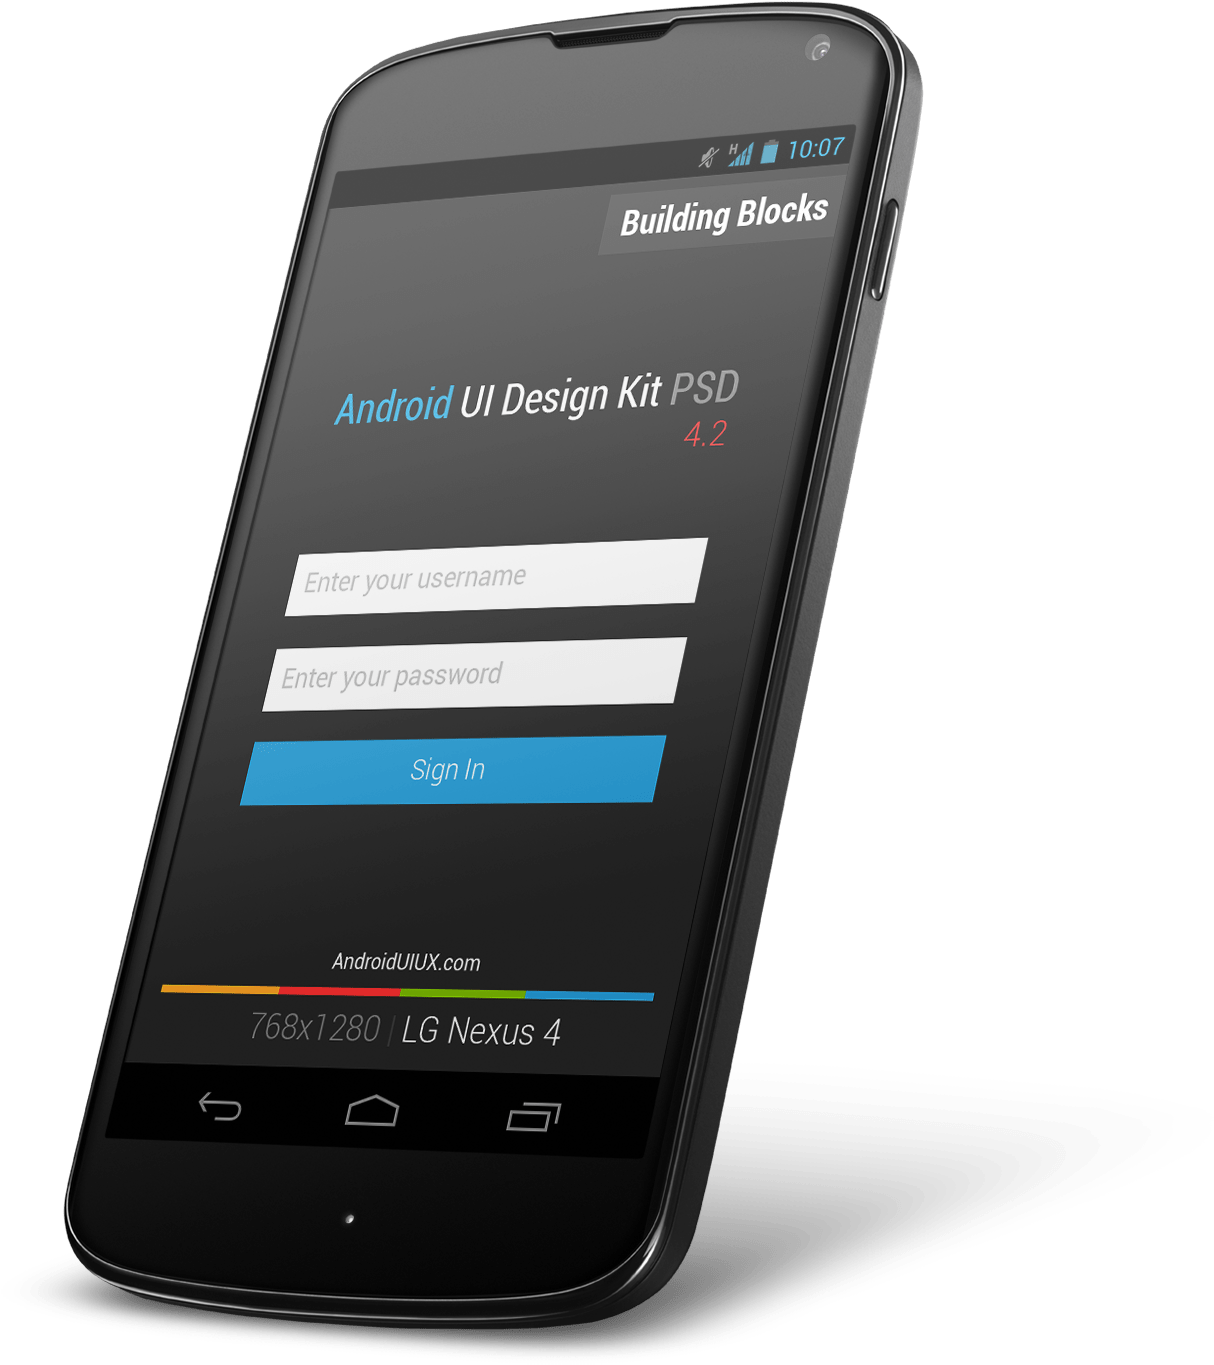phone: (52, 11, 949, 1351)
